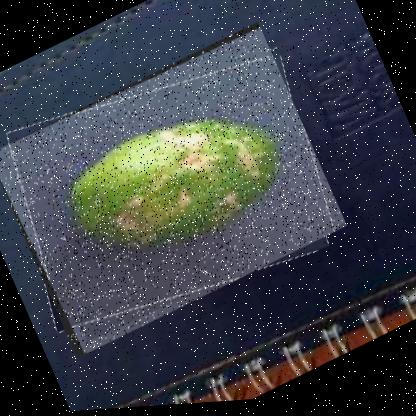orange_rotten: (0, 18, 348, 363)
